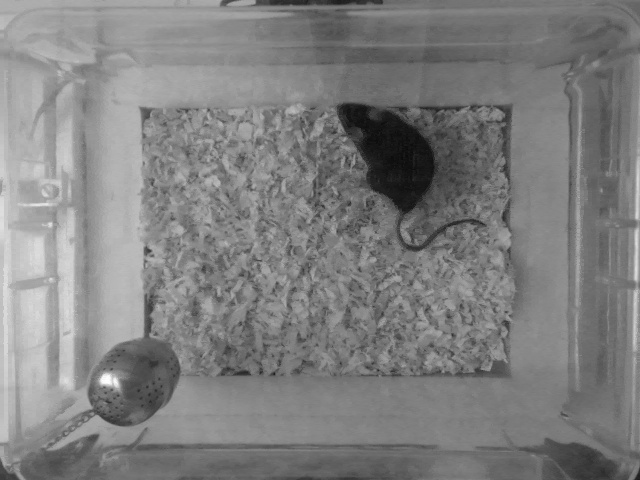mice: (328, 100, 485, 254)
